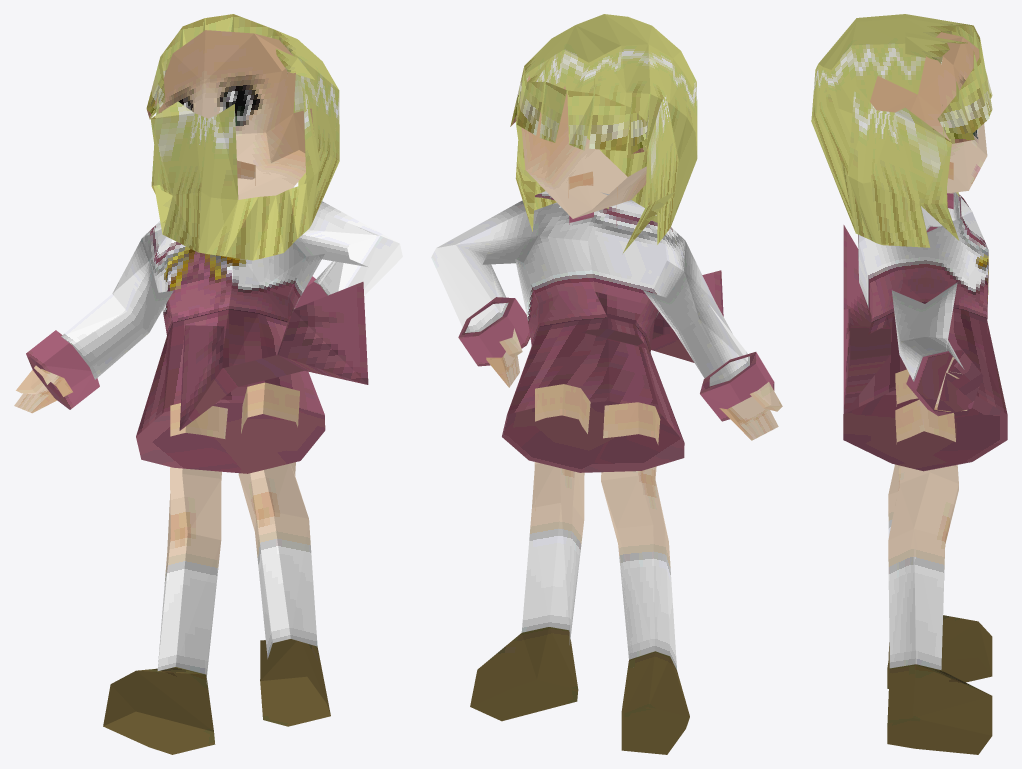
Rendered from ps2_save-icons_guardianangel.glb.
3 renders of one model, left to right at view 1: azimuth 30°, elevation 25°; view 2: azimuth 150°, elevation 25°; view 3: azimuth 270°, elevation 25°, orthographic. The views are drawn at different scales.
Parts seen in each view (by area): view 1: ga.ico; view 2: ga.ico; view 3: ga.ico.
Part boxes in pixels (x1,y1,x2,y2): ga.ico: [14, 14, 402, 754]; ga.ico: [431, 14, 782, 754]; ga.ico: [811, 14, 1007, 754].
Bounding box in the file's own units: 2.54 × 4.58 × 1.19.
Materials: 1 (1 with a texture image).
